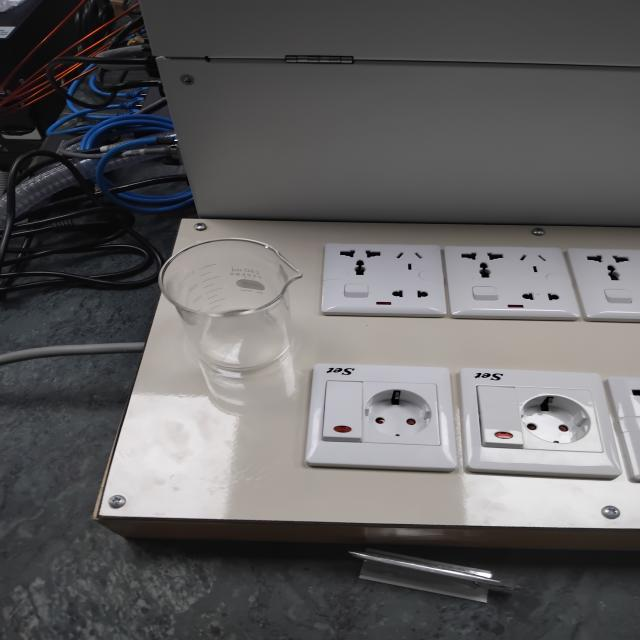Beaker: (126, 219, 350, 423)
